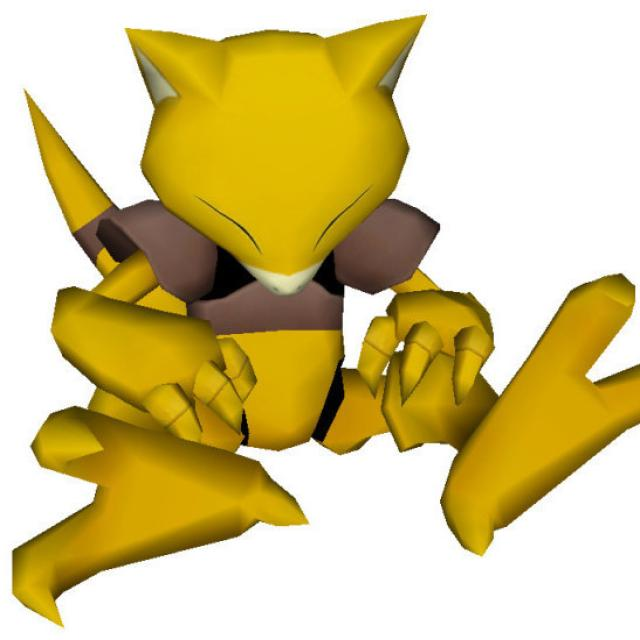Abra: (47, 20, 556, 543)
